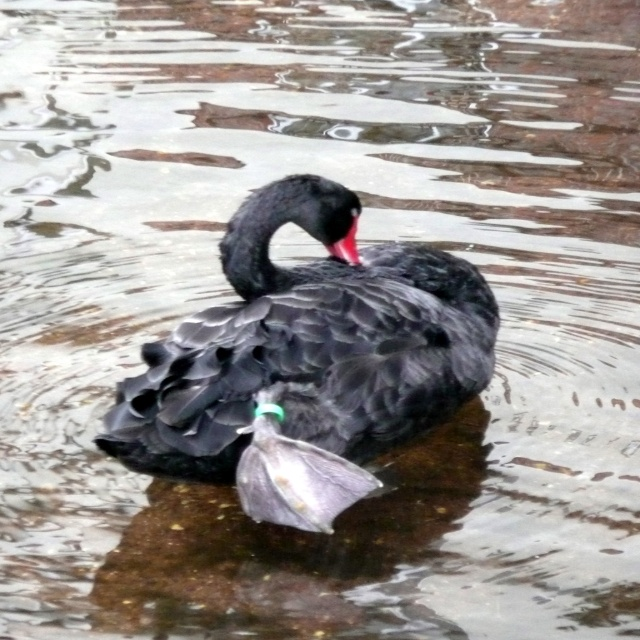Duck: (92, 173, 500, 534)
